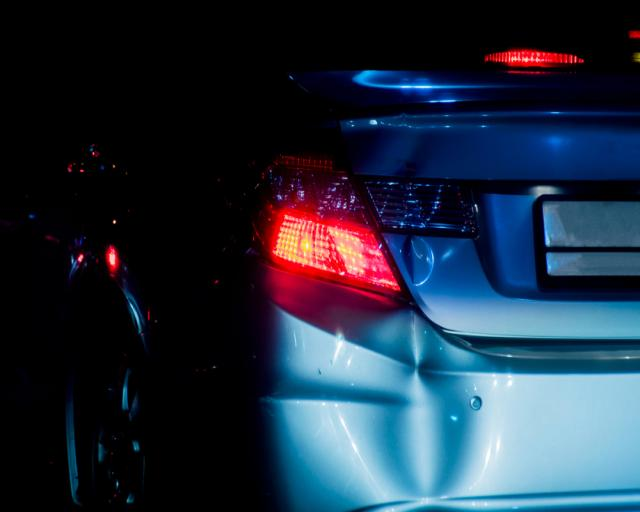dent: (338, 315, 500, 501), (401, 236, 433, 285)
